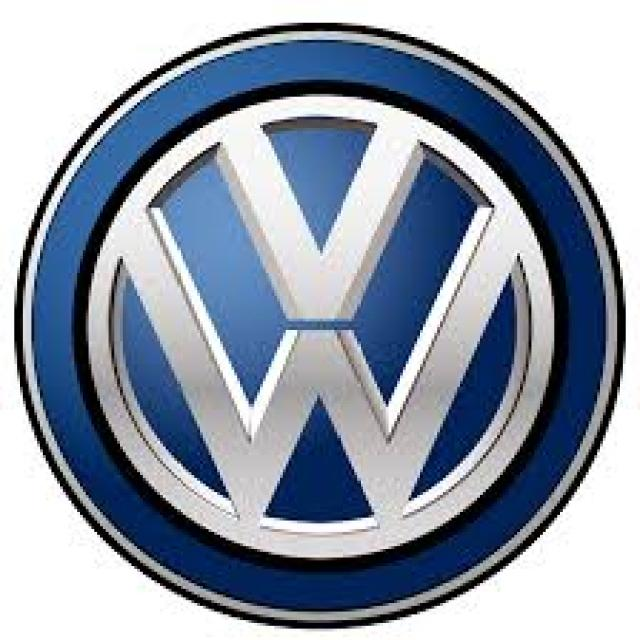wolksvogen: (10, 14, 631, 635)
